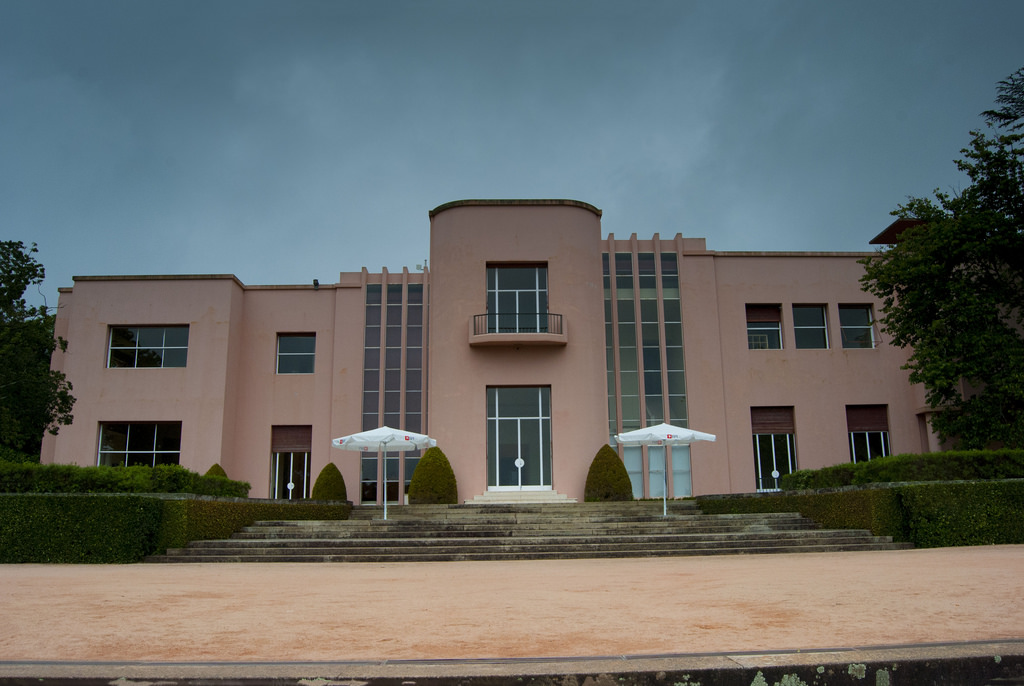serralves: (35, 198, 1023, 505)
